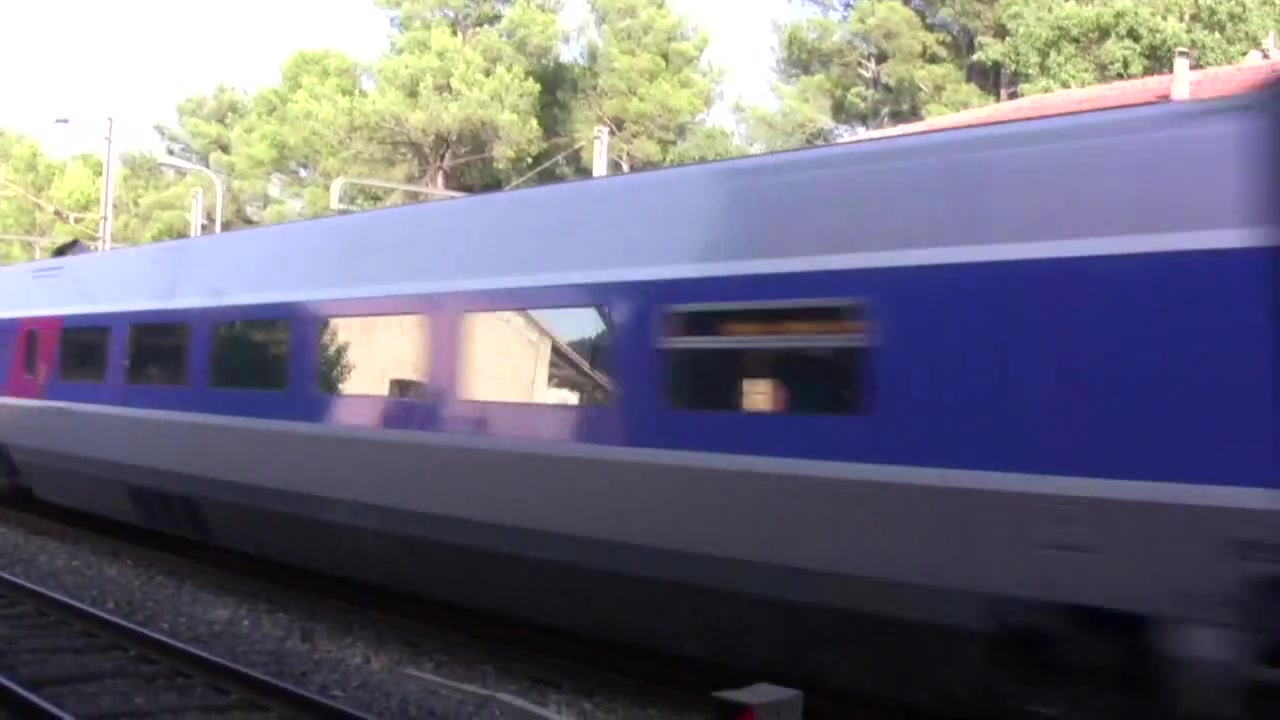train: (1, 66, 1280, 676)
